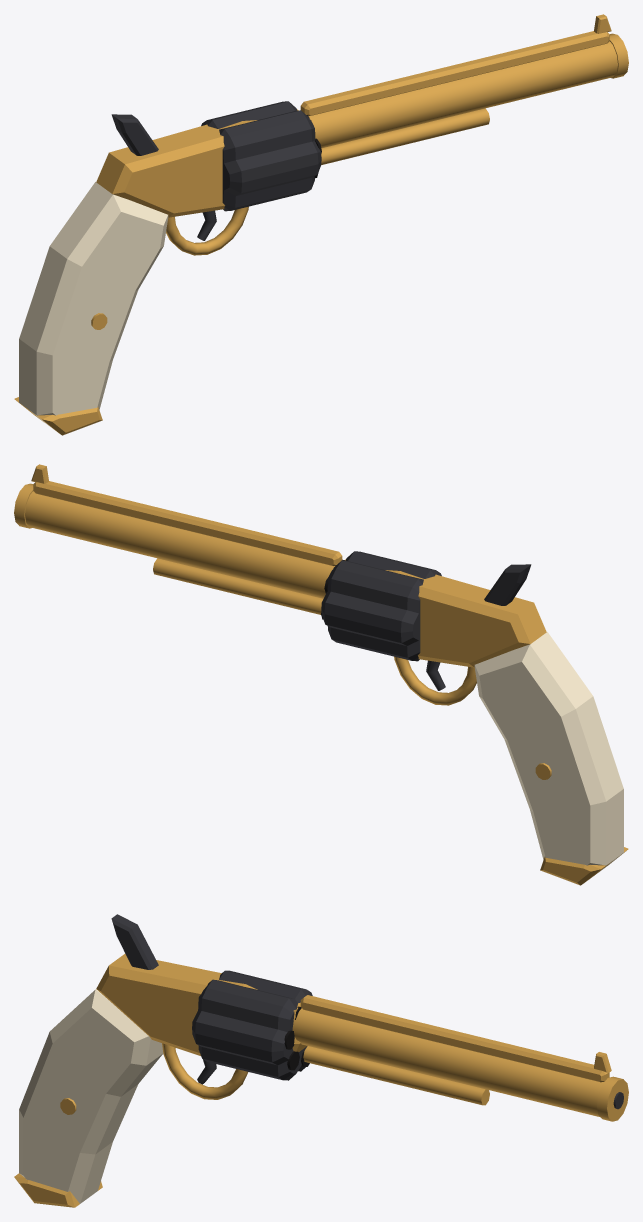
The model's file is revolver.glb.
3 views of the same model, one above another, from view 1: azimuth 30°, elevation 25°; view 2: azimuth 150°, elevation 25°; view 3: azimuth 330°, elevation 25° (orthographic).
Visible parts, largest first — view 1: Revolver; view 2: Revolver; view 3: Revolver.
Part boxes in pixels (box(x1,y1,x2,y2)): Revolver: box(14, 14, 628, 435); Revolver: box(14, 464, 628, 885); Revolver: box(14, 914, 628, 1207).
Size of the model in its own units: 2.33 by 1.1 by 0.32.
